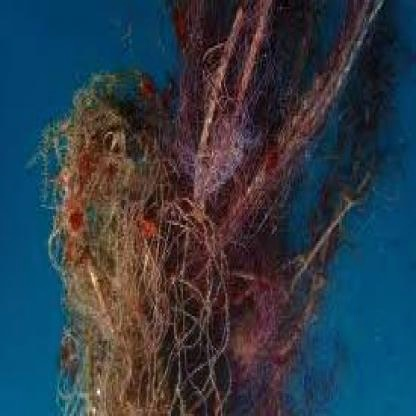net: (48, 2, 374, 416)
